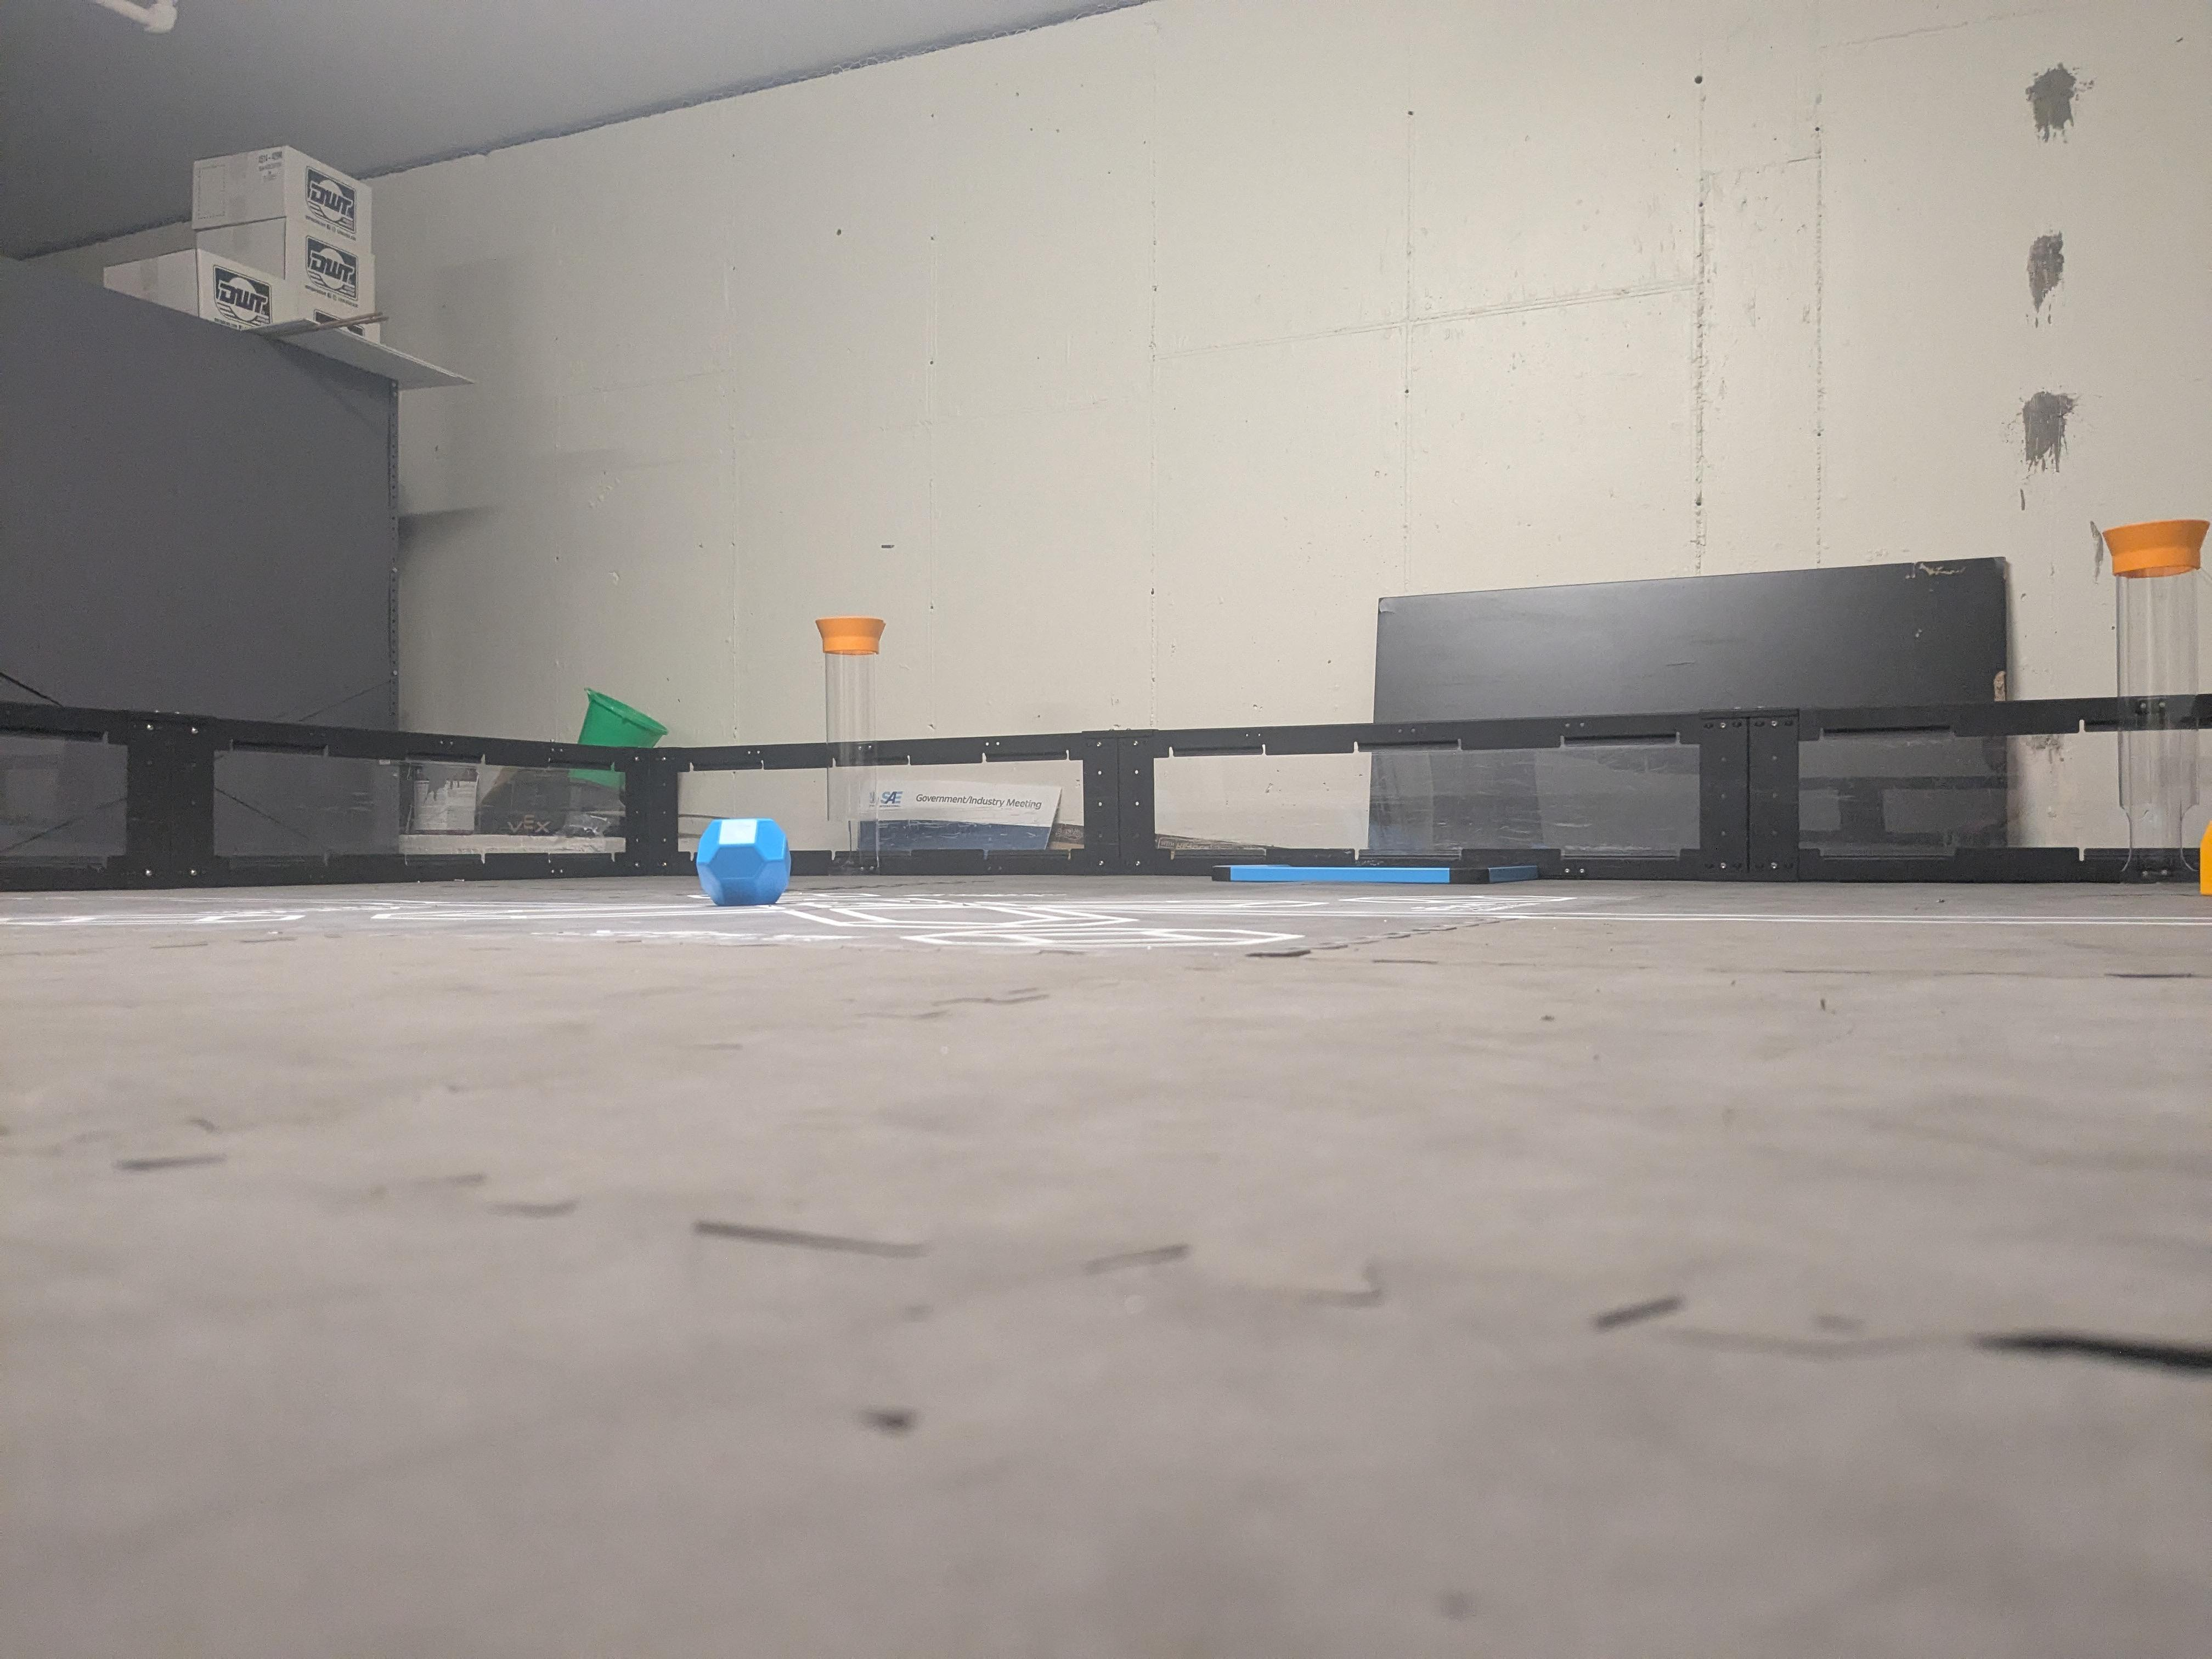Vex-Pieces-BLUE: (695, 821, 787, 906)
